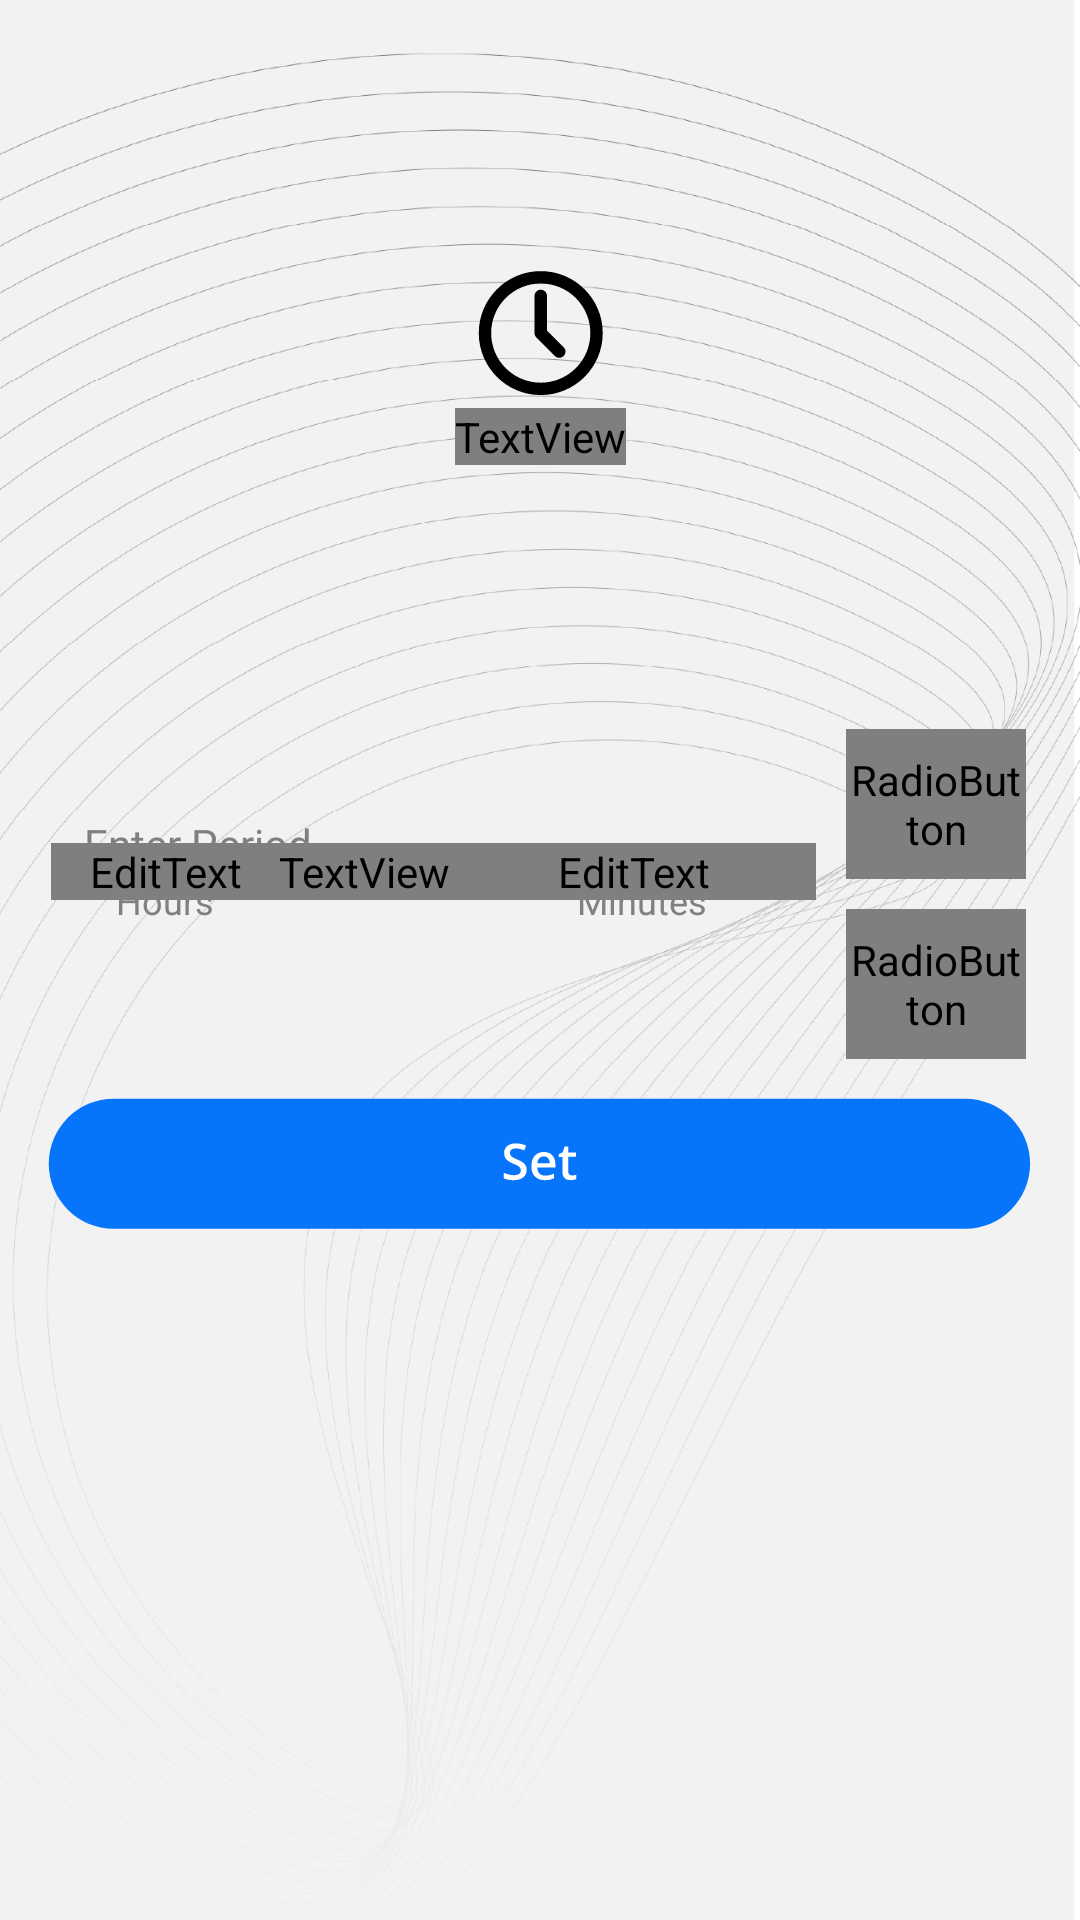

Locate icon controls on the screen. Image size 1080 × 1920, boxes as (x1, y1, x2, y2).
time: (477, 271, 603, 396)
